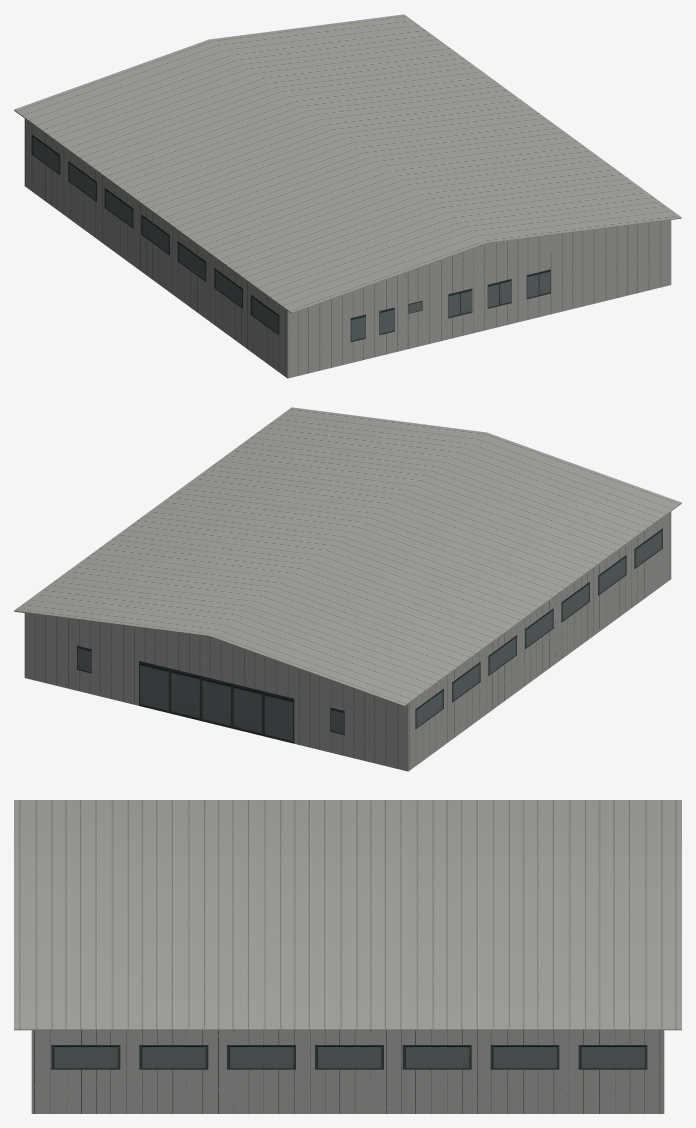
3 views of the same model, one above another, from view 1: azimuth 30°, elevation 25°; view 2: azimuth 150°, elevation 25°; view 3: azimuth 270°, elevation 25° (orthographic). The views are drawn at different scales.
Visible parts, largest first — view 1: changfang_3; view 2: changfang_3; view 3: changfang_3.
Part boxes in pixels (bbox=[...]): changfang_3: bbox=[14, 14, 681, 378]; changfang_3: bbox=[14, 407, 681, 771]; changfang_3: bbox=[14, 800, 681, 1113].
Bounding box in the file's own units: 22.13 × 5.12 × 27.28.
2 materials, 2 textured.
